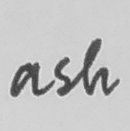a: (7, 59, 44, 101)
h: (80, 36, 113, 97)
s: (52, 55, 74, 99)
